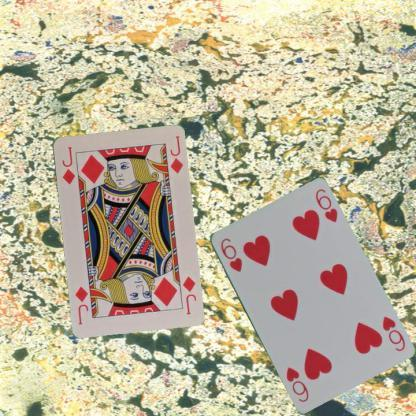6h: (379, 313, 406, 353), (217, 235, 243, 273)
Jd: (179, 274, 198, 316), (58, 144, 76, 186)
